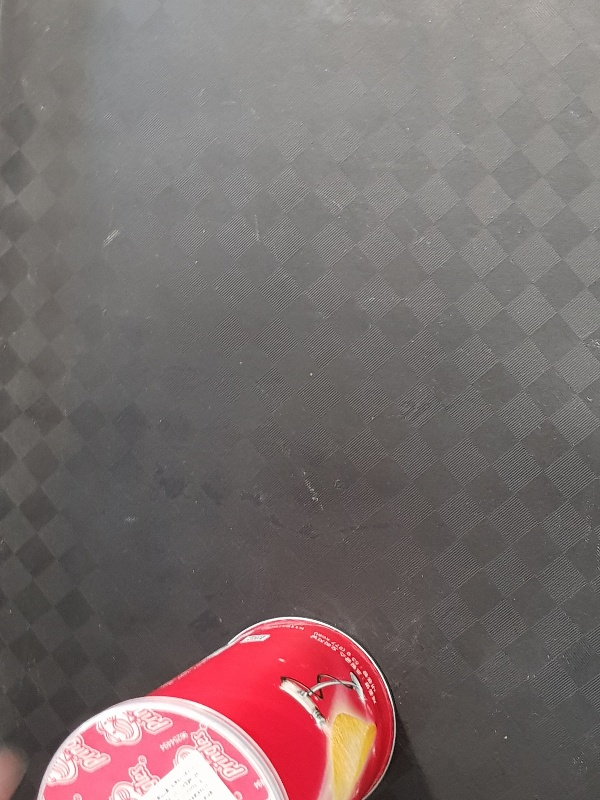Pringles Original: (33, 612, 398, 800)
